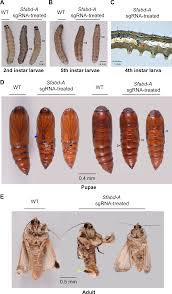larva: (109, 36, 172, 58), (113, 23, 172, 42), (89, 23, 111, 66), (52, 23, 70, 65), (3, 23, 16, 68), (32, 24, 45, 67), (76, 23, 88, 65), (18, 19, 27, 65)
moth: (18, 217, 59, 287), (65, 218, 109, 279), (120, 223, 157, 278)
pupa: (90, 105, 119, 177), (115, 99, 142, 172), (7, 105, 34, 176), (33, 100, 57, 171), (145, 107, 169, 176), (61, 103, 84, 170)
